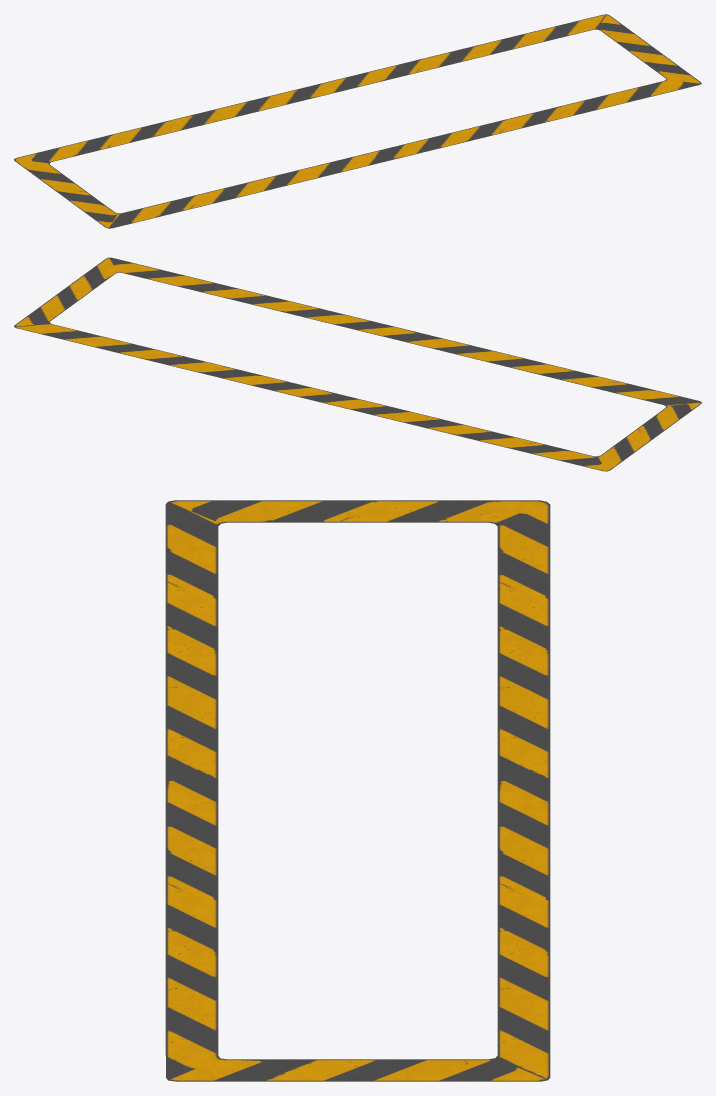
The model's file is SM_FloorDecal_RecWarn1x4.FBX.
The picture shows the model from 3 angles, top to bottom: view 1: azimuth 30°, elevation 25°; view 2: azimuth 150°, elevation 25°; view 3: azimuth 270°, elevation 25°; orthographic projection. The views are drawn at different scales.
Visible parts, largest first — view 1: SM_FloorDecal_RecWarn1x4; view 2: SM_FloorDecal_RecWarn1x4; view 3: SM_FloorDecal_RecWarn1x4.
Part boxes in pixels (<box>): SM_FloorDecal_RecWarn1x4: <box>14,14,701,228</box>; SM_FloorDecal_RecWarn1x4: <box>14,257,701,471</box>; SM_FloorDecal_RecWarn1x4: <box>165,500,550,1081</box>.
Size of the model in its own units: 414 by 116 by 0.
